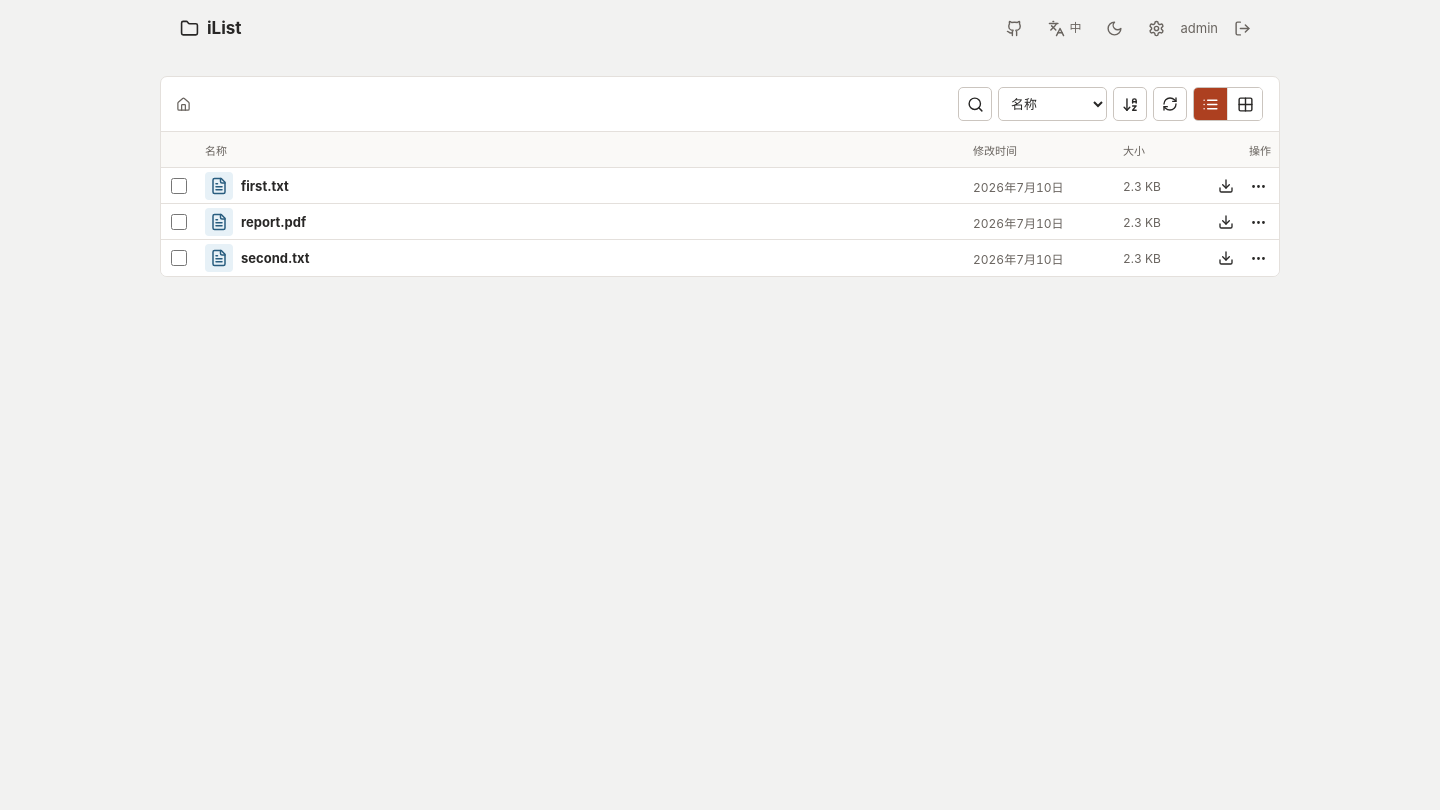
Test: page states and feedback › localizes a real preview metadata API failure before rendering it
Click the button with aria-label "打开 report.pdf". click: click(274, 222)
box: x1=197 y1=204 x2=965 y2=240
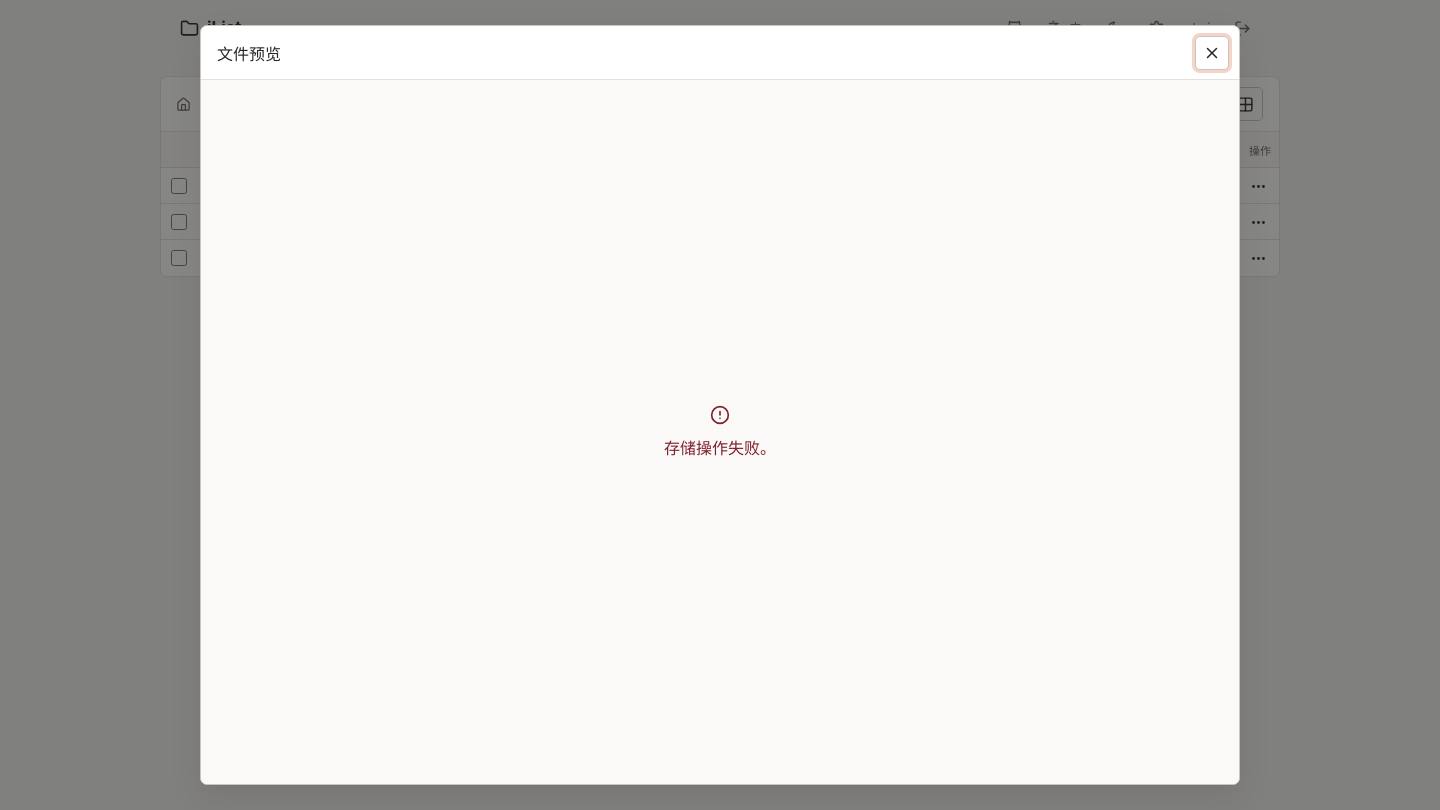
Result: the message reads "存储操作失败。" at x1=664 y1=438 x2=776 y2=458
